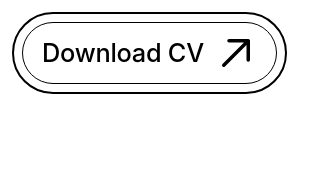
Test case: DownloadCvButton › navigates to the CV in in-app browsers instead of a blob download
This screenshot has width=332, height=172.
Click the button: point(149, 53) [12,12,287,94]
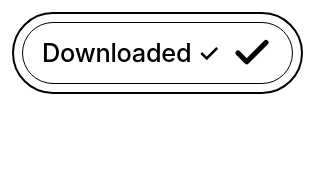
Result: the button reads "Downloaded ✓" at [12,12,303,94]
